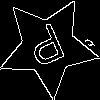P: (23, 21, 72, 77)
